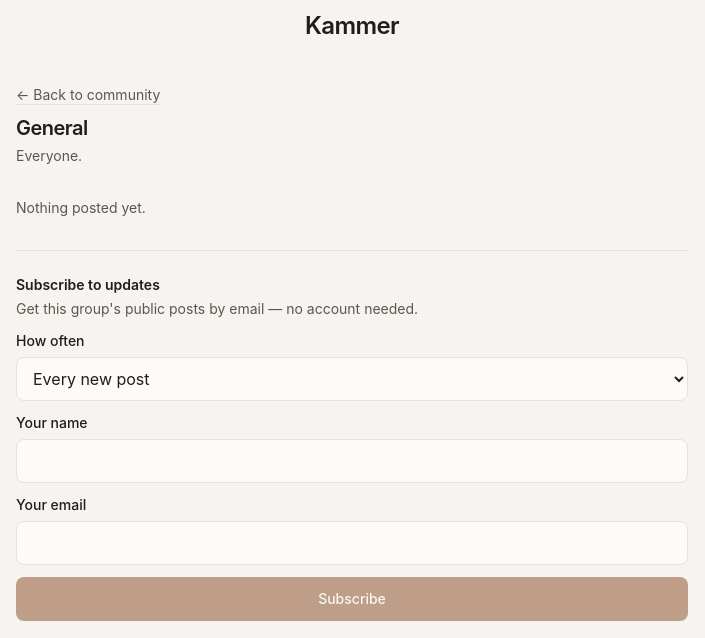
it: public group page › POSTs a subscription with the chosen cadence and shows the neutral confirmation
This screenshot has width=705, height=638.
Check: the form is shown, box x1=16 y1=331 x2=688 y2=621
Select "Weekly digest" in the dropdown labelled "How often": (352, 379) x1=16 y1=357 x2=688 y2=401
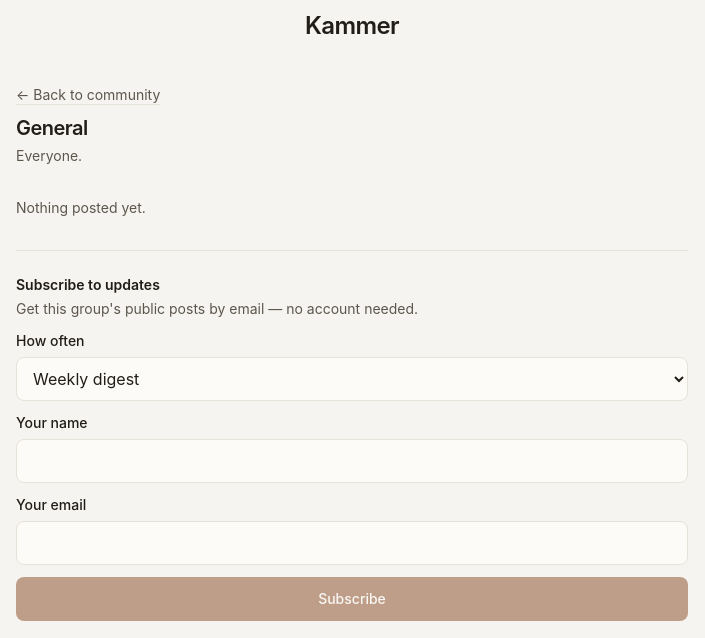
In the field labelled "Your name": (352, 461) x1=16 y1=439 x2=688 y2=483, type "Bob"
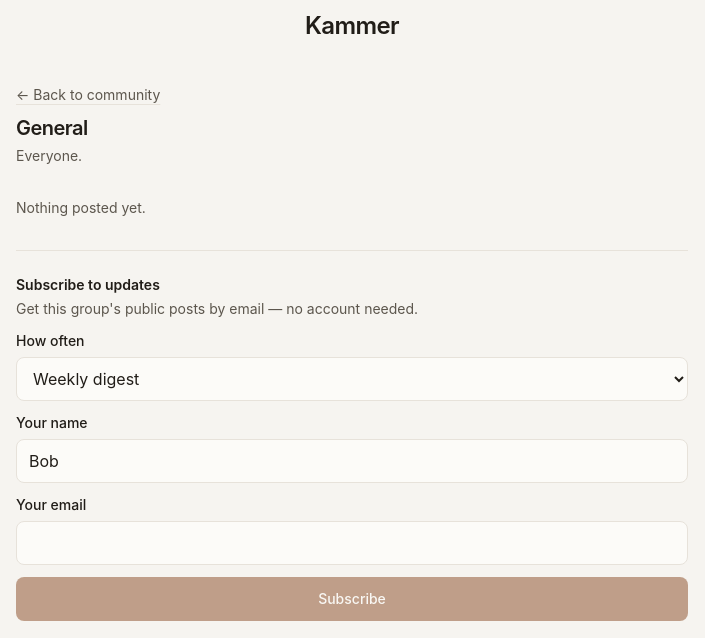
In the field labelled "Your email": (352, 543) x1=16 y1=521 x2=688 y2=565, type "bob@example.com"
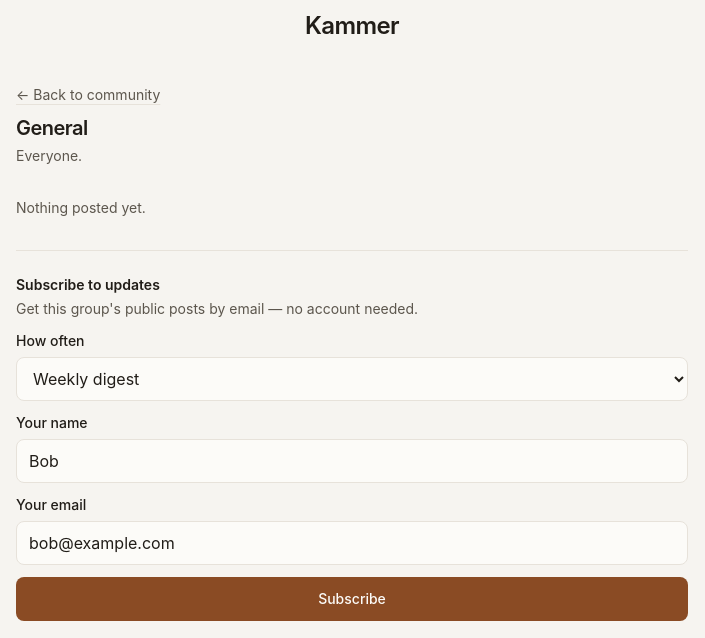
Click the button "Subscribe": click(352, 599) x1=16 y1=577 x2=688 y2=621
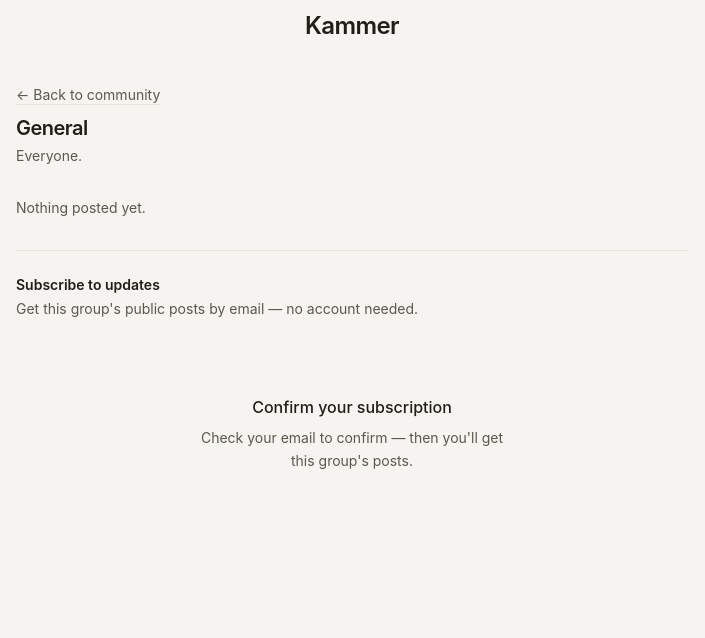
Check: the heading "Confirm your subscription" is shown, box x1=252 y1=395 x2=452 y2=419
